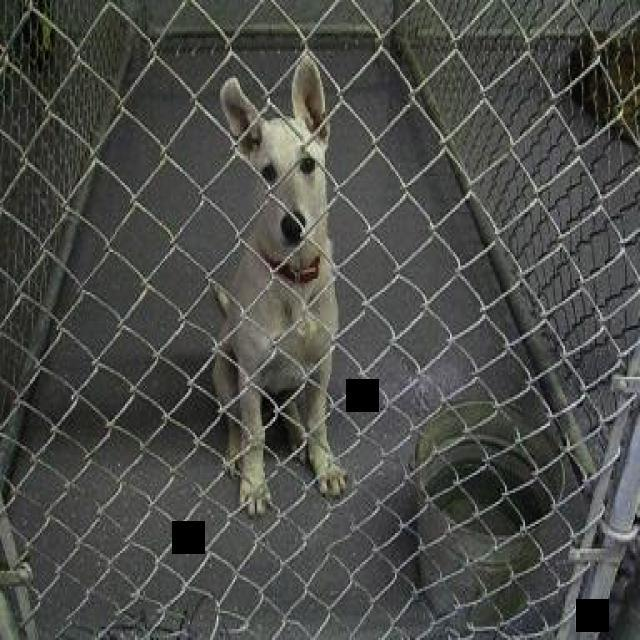adult_dog: (212, 57, 346, 516)
